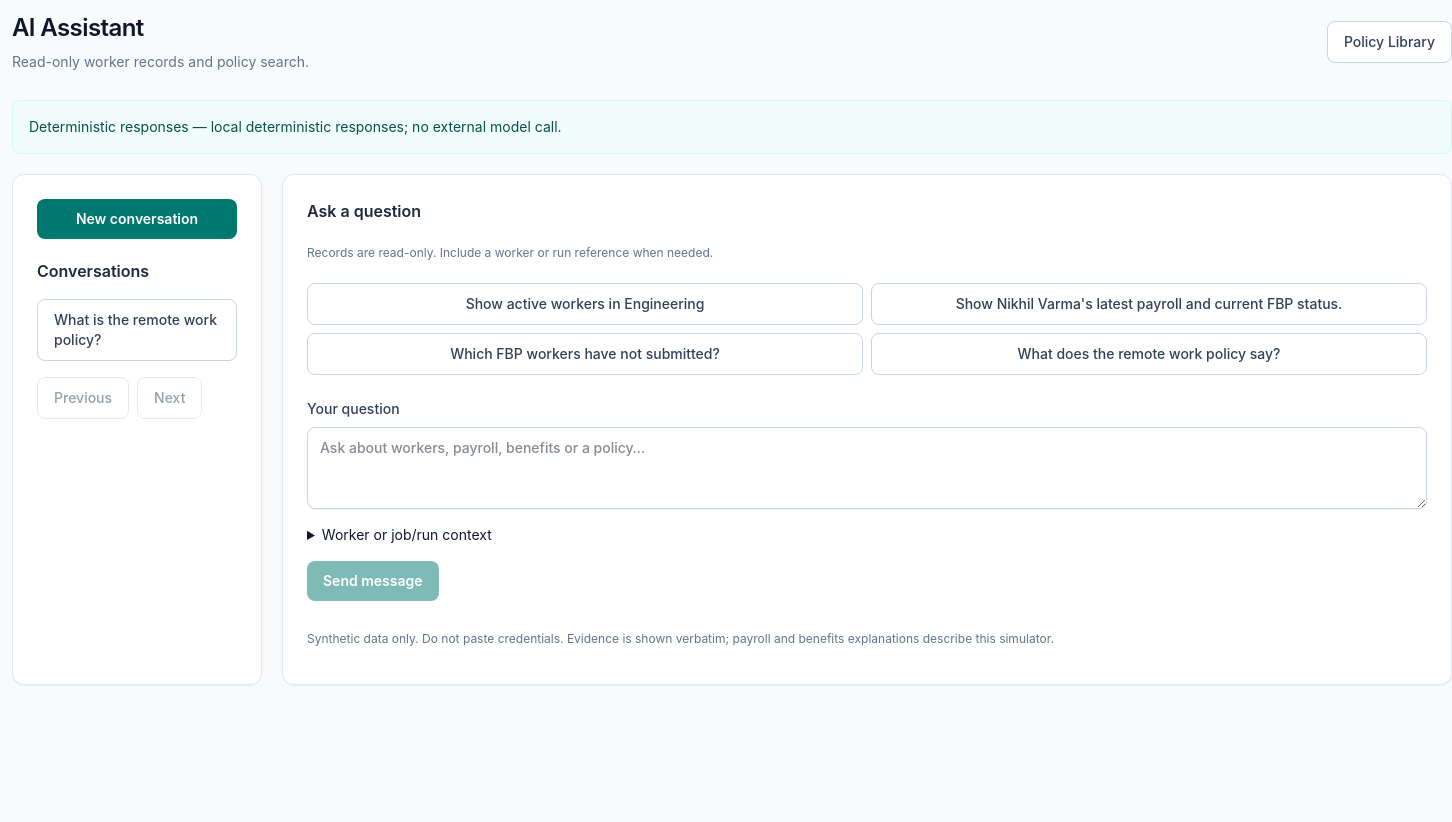
opens history and starts fresh conversation
Click the button "What is the remote work policy?" at coordinates (137, 330), box [37,299,237,361]
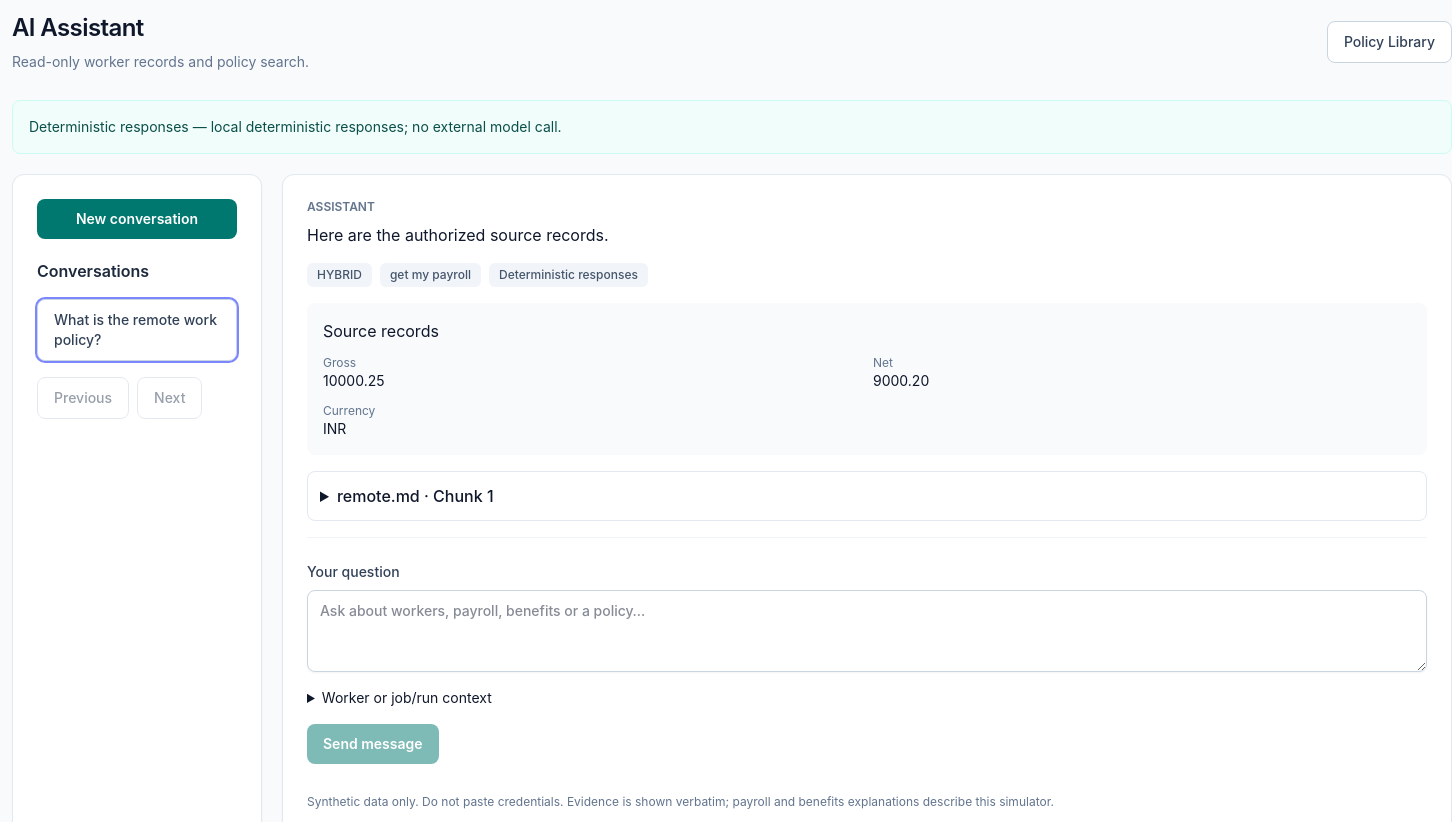
Result: the text "9000.20" is shown at [873,372,929,389]
Click the button "New conversation" at coordinates (137, 219), box [37,199,237,239]
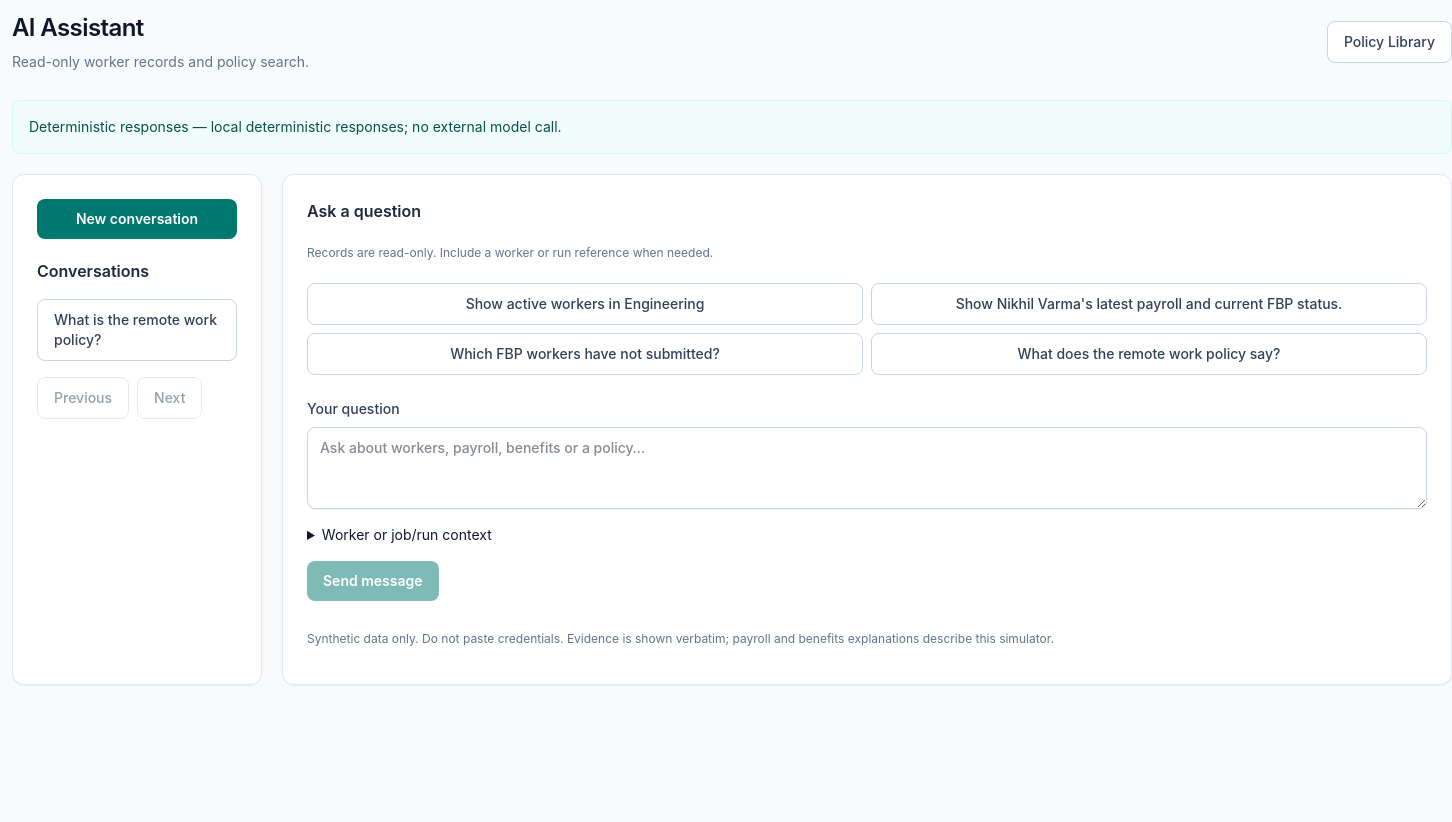
Result: the text "9000.20" is gone
